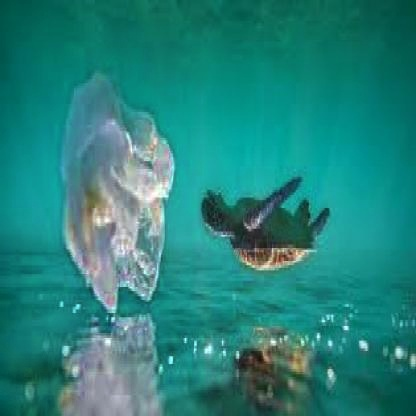pbag: (61, 70, 177, 317)
